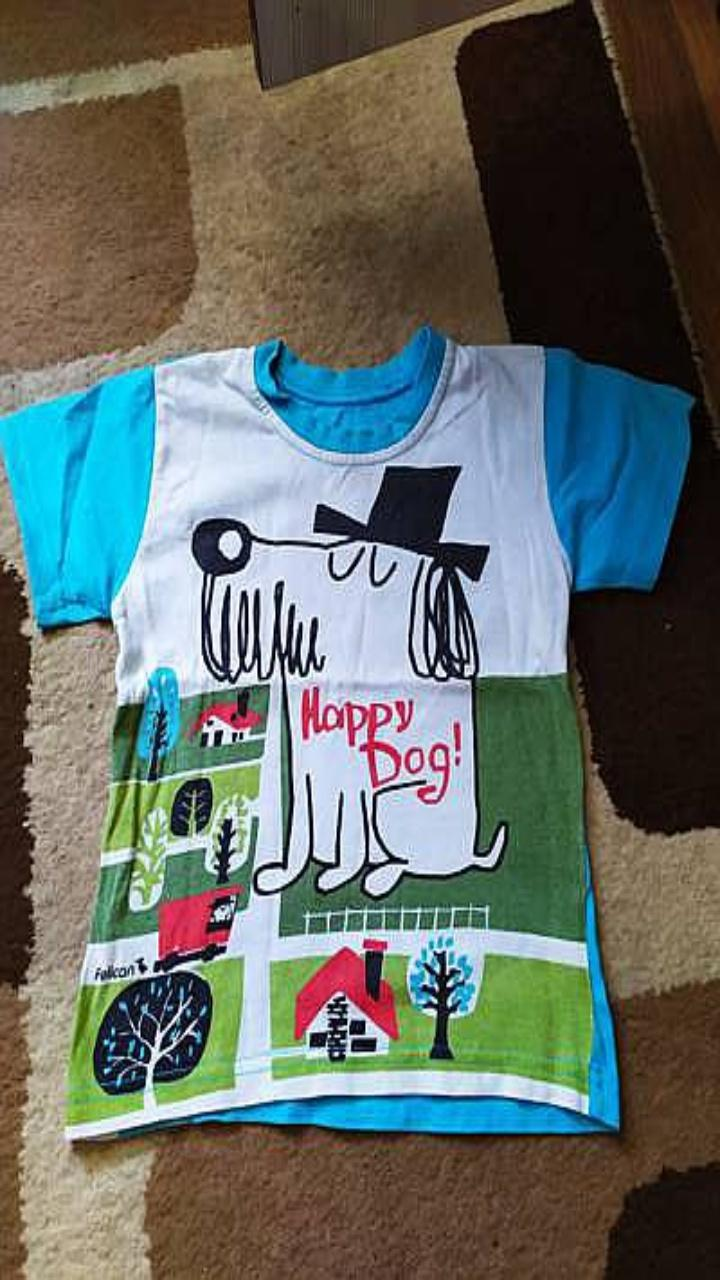T-Shirt: (0, 328, 691, 1138)
